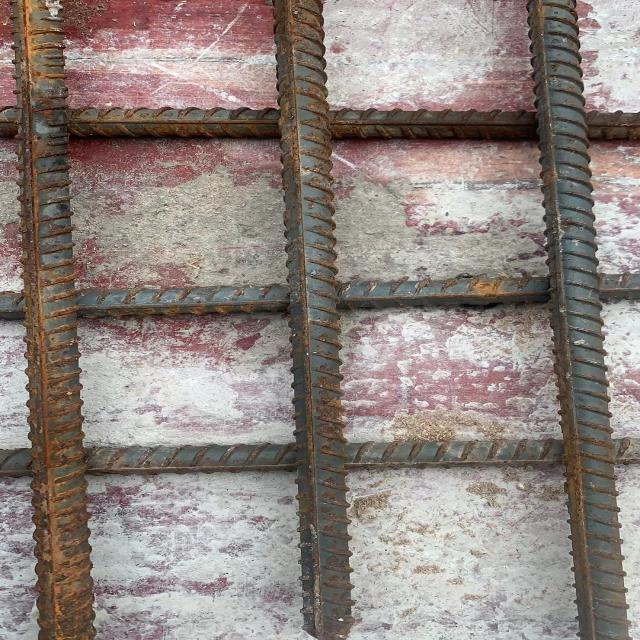ribbed bar: (523, 0, 636, 639), (8, 0, 99, 639), (271, 0, 357, 639), (0, 272, 639, 323), (0, 436, 639, 477), (0, 107, 639, 144)
